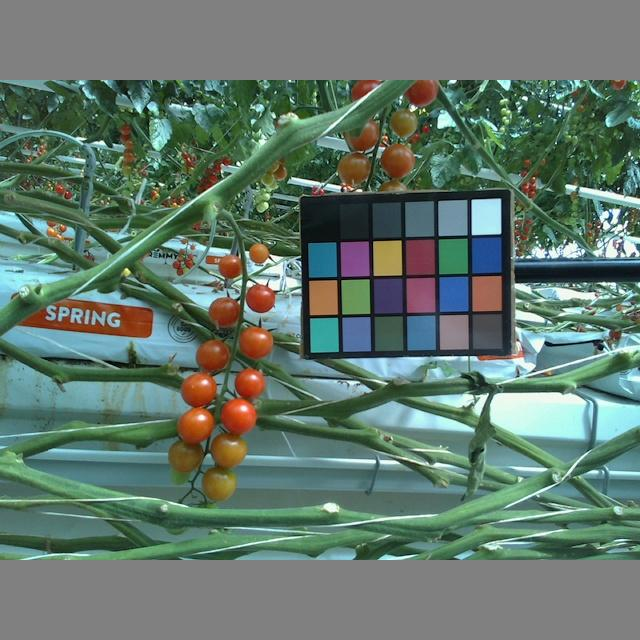green: (170, 466, 190, 488)
pink: (177, 374, 219, 405), (211, 432, 246, 469), (222, 399, 258, 433), (239, 326, 275, 359), (195, 338, 229, 371), (203, 467, 236, 500), (171, 438, 203, 471), (383, 144, 415, 177), (179, 409, 212, 440), (209, 296, 239, 330), (235, 367, 267, 398), (346, 121, 378, 151), (341, 152, 370, 183), (246, 285, 274, 312), (391, 111, 418, 137), (216, 254, 242, 278), (248, 244, 270, 263)
